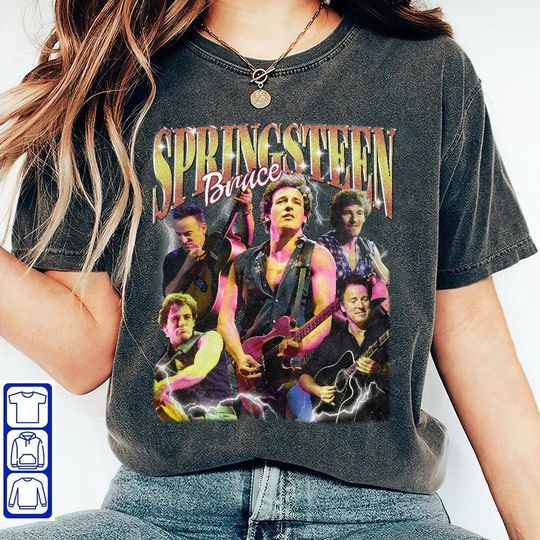design: (148, 120, 398, 426)
